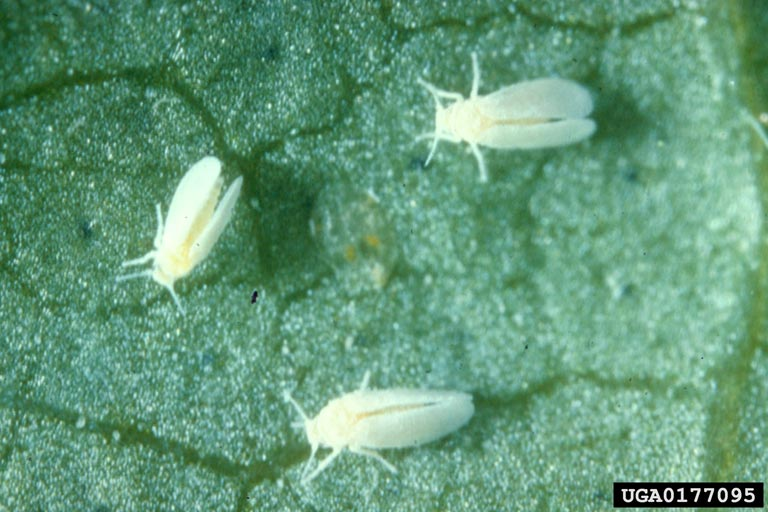Tobacco Whitefly: (268, 353, 505, 486), (109, 134, 247, 321), (411, 67, 605, 180)
